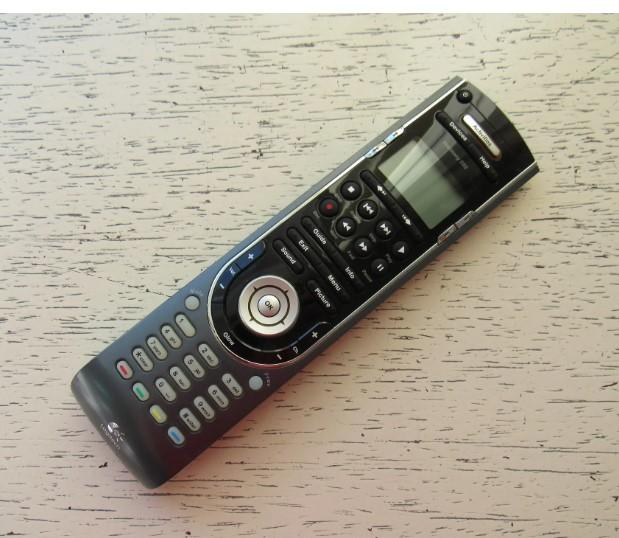Remote control: (69, 77, 540, 491)
